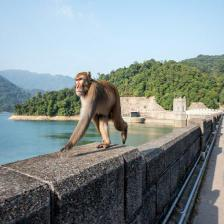monkey: (64, 62, 138, 166)
